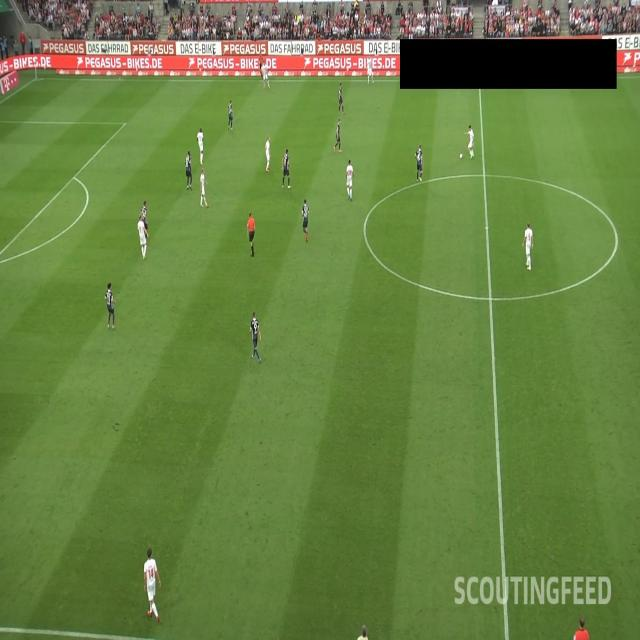ball: (459, 152, 463, 160)
